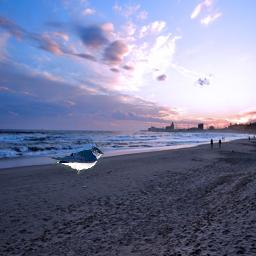Swallow: (48, 147, 104, 175)
